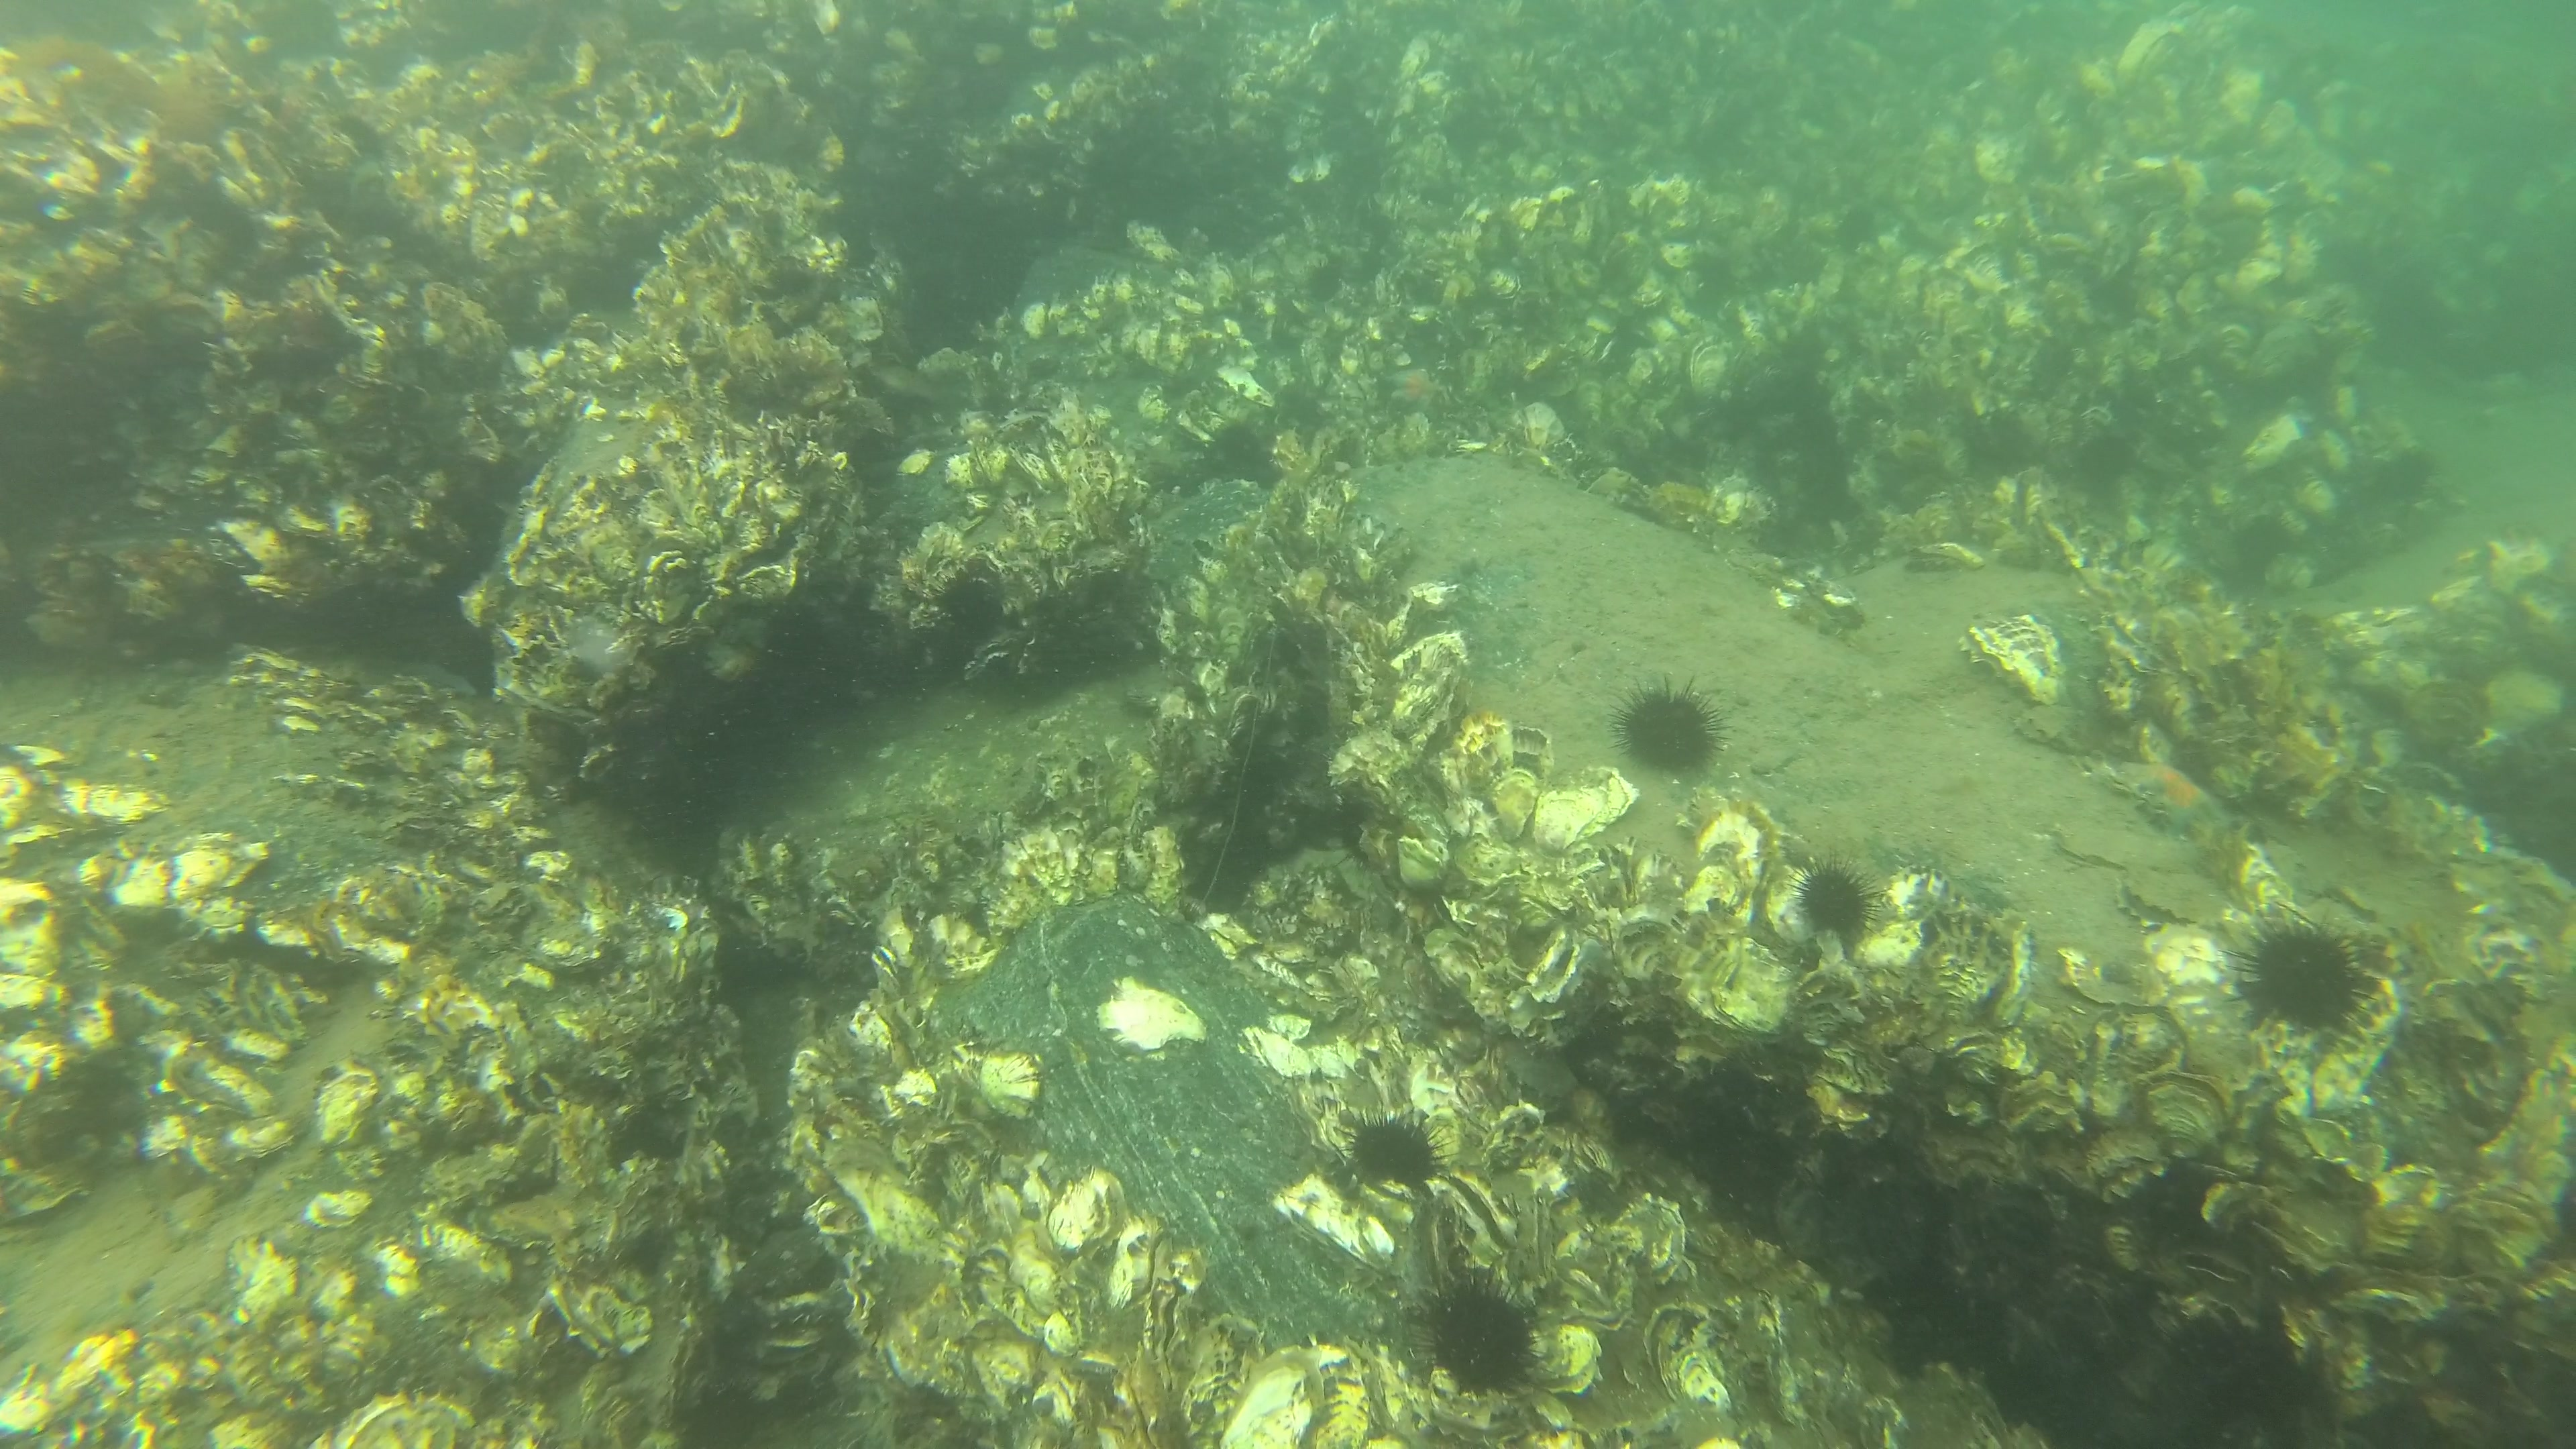echinus: (1401, 1265, 1546, 1398), (2243, 920, 2380, 1039), (1615, 674, 1727, 771), (1343, 1104, 1453, 1194), (1785, 853, 1881, 938)
starfish: (2112, 755, 2229, 832), (1384, 361, 1445, 414)
